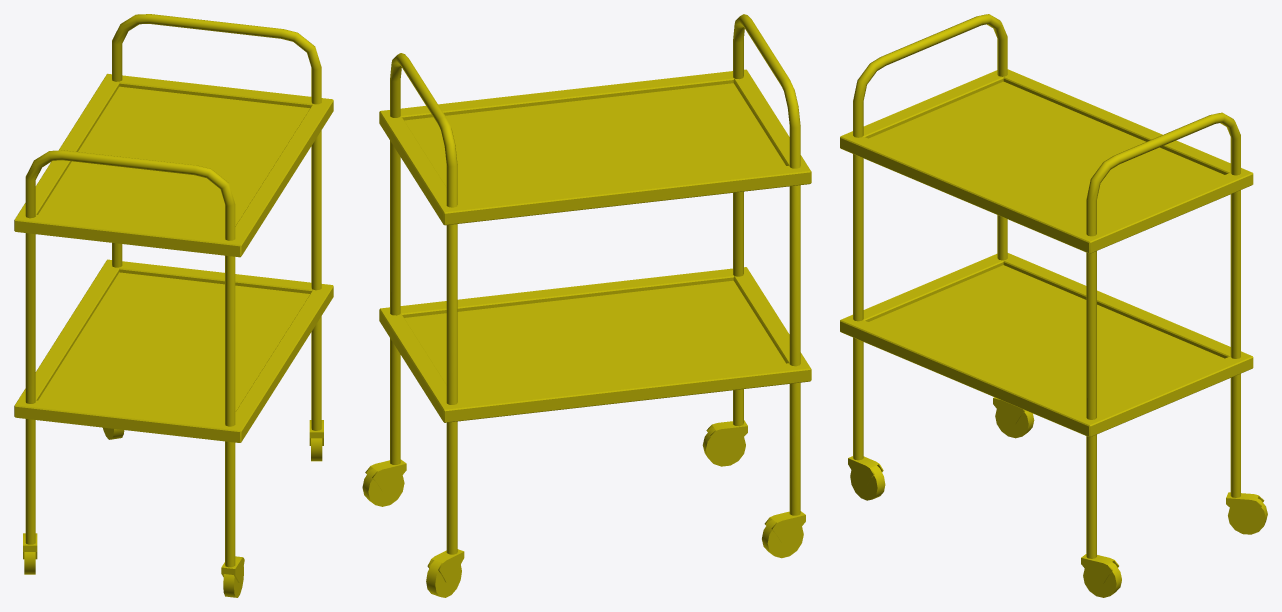
The model's file is TableLittle.FBX.
The picture shows the model from 3 angles, left to right: view 1: azimuth 30°, elevation 25°; view 2: azimuth 150°, elevation 25°; view 3: azimuth 270°, elevation 25°; orthographic projection. The views are drawn at different scales.
Visible parts, largest first — view 1: Box006; view 2: Box006; view 3: Box006.
Part boxes in pixels (box(x1,y1,x2,y2)): Box006: box(14, 14, 333, 597); Box006: box(362, 14, 811, 597); Box006: box(840, 14, 1267, 597).
Bounding box in the file's own units: 28.28 × 31.97 × 29.07.
